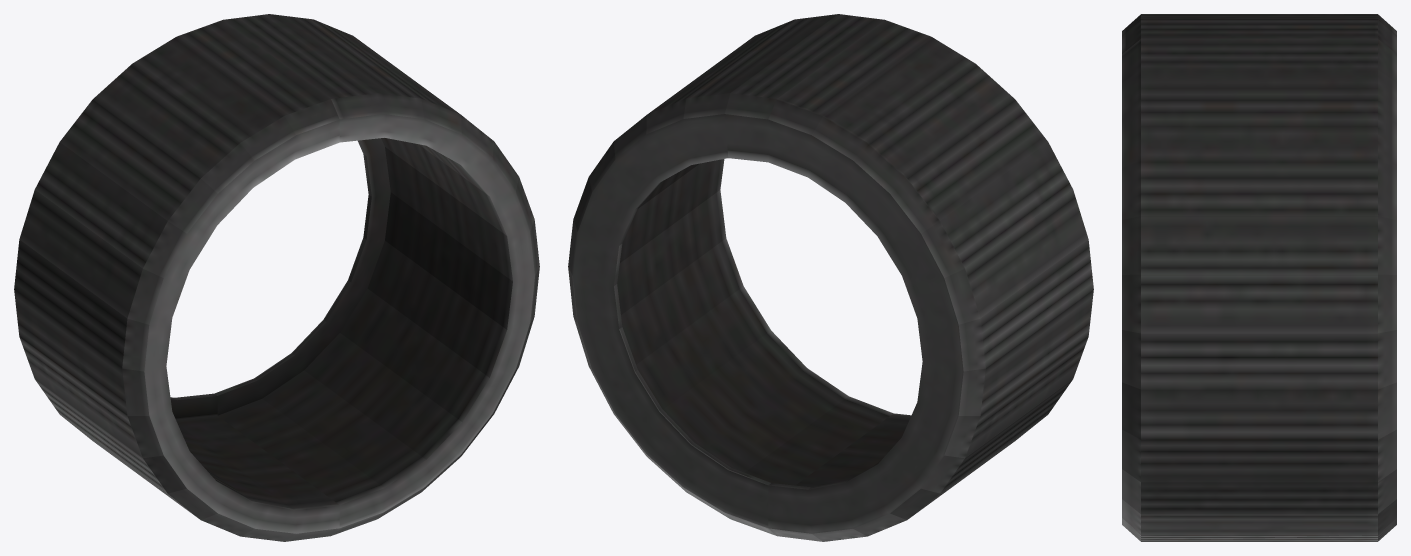
The picture shows the model from 3 angles, left to right: view 1: azimuth 30°, elevation 25°; view 2: azimuth 150°, elevation 25°; view 3: azimuth 270°, elevation 25°; orthographic projection. The views are drawn at different scales.
Parts seen in each view (by area): view 1: TW_670fd0eed8d4eae4790c818a_PZ_Import; view 2: TW_670fd0eed8d4eae4790c818a_PZ_Import; view 3: TW_670fd0eed8d4eae4790c818a_PZ_Import.
Part boxes in pixels (x1,y1,x2,y2): TW_670fd0eed8d4eae4790c818a_PZ_Import: (14, 14, 539, 541); TW_670fd0eed8d4eae4790c818a_PZ_Import: (568, 14, 1093, 541); TW_670fd0eed8d4eae4790c818a_PZ_Import: (1122, 14, 1396, 541).
Bounding box in the file's own units: 0.0154 × 0.008 × 0.0154.
1 material, 1 textured.
